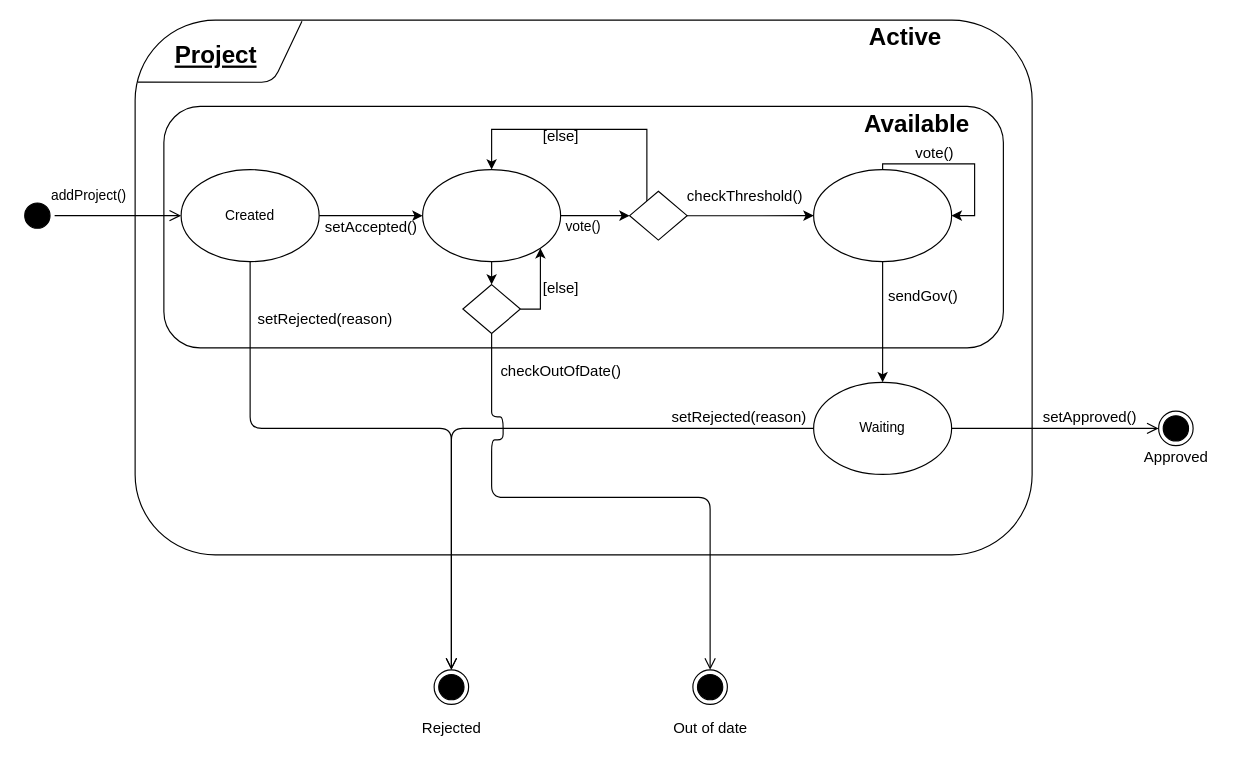
Some shapes in this 1236 by 759 pixel diagram are drawn without their labels. The shapes that lost their labels are listed below. From the top down, each one's centre as x and y in pixels, then its label:
the point at 491,215: Ongoing
the point at 882,215: Passed Threshold
